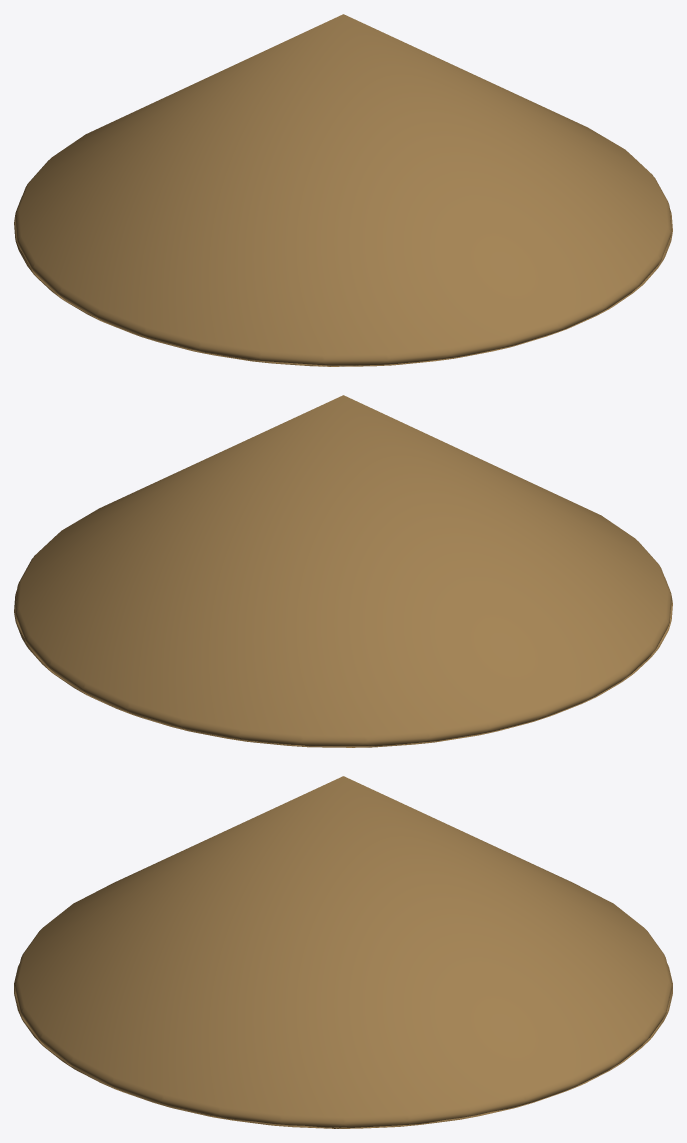
Rendered from grandmaster_hat.fbx.
3 views of the same model, one above another, from view 1: azimuth 30°, elevation 25°; view 2: azimuth 150°, elevation 25°; view 3: azimuth 270°, elevation 25° (orthographic).
Visible parts, largest first — view 1: Cone; view 2: Cone; view 3: Cone.
Boxes of the visible parts, x1,y1,x2,y2 form: Cone: (14, 14, 672, 366); Cone: (14, 395, 672, 747); Cone: (14, 776, 672, 1128).
Bounding box in the file's own units: 1.52 × 1.52 × 0.5492.
